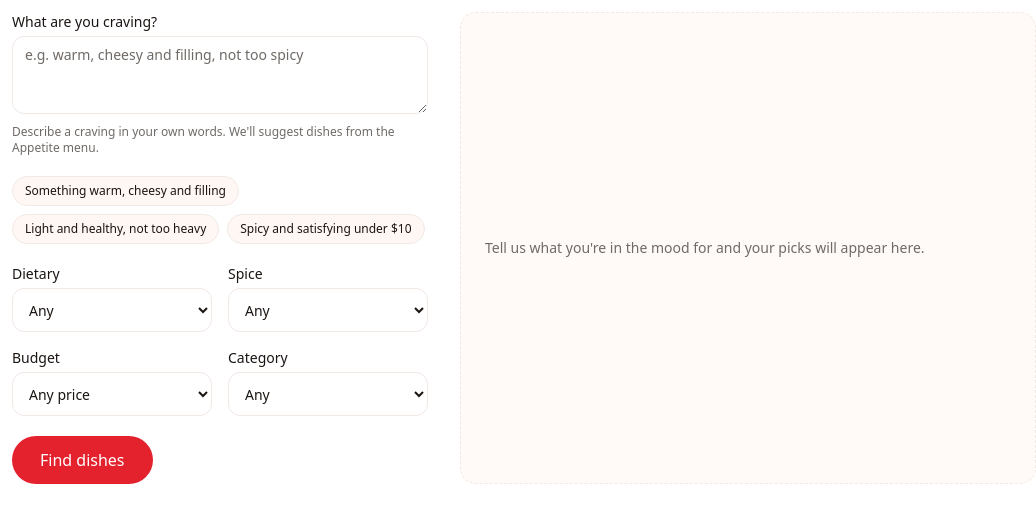
Test: RecommendForm › renders AI picks using trusted local product data
Type "warm cheesy" into the text box labelled "What are you craving?" at (220, 75), box [12,36,428,114]
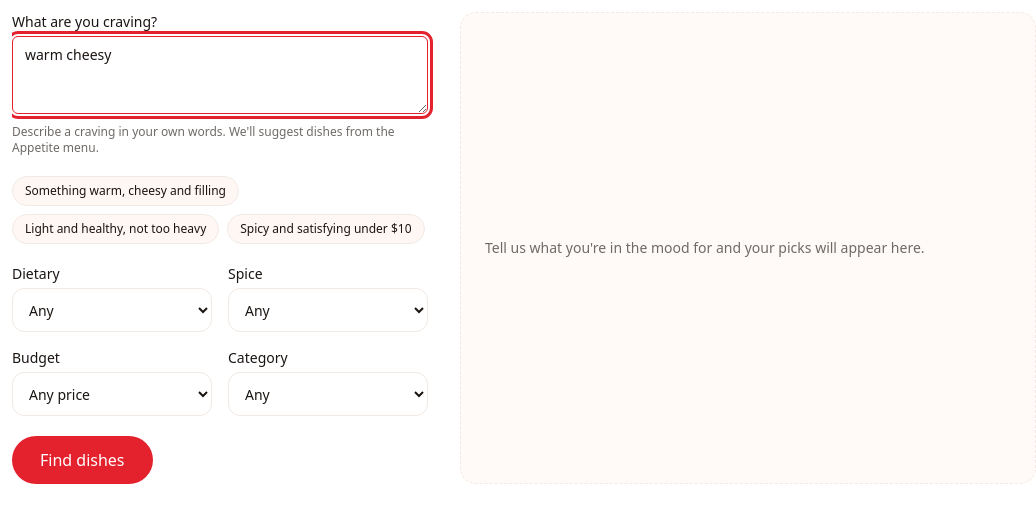
Click the button "Find dishes" at (82, 460), box [12,436,152,484]
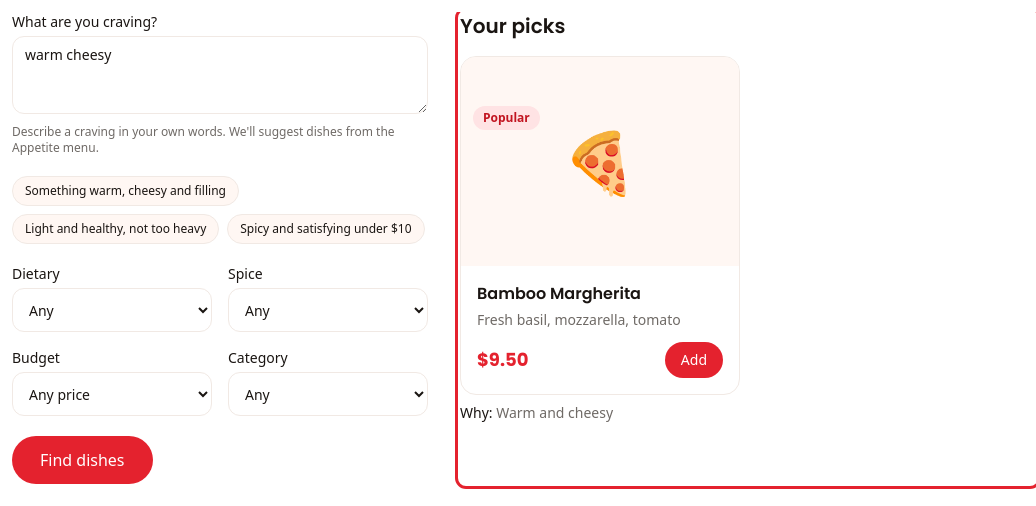
Expected: the heading "Your picks" is shown, [460,12,565,40]
Result: the heading "Bamboo Margherita" is shown at [477,282,641,304]
Result: the text "Why: Warm and cheesy" is shown at [460,402,613,422]
